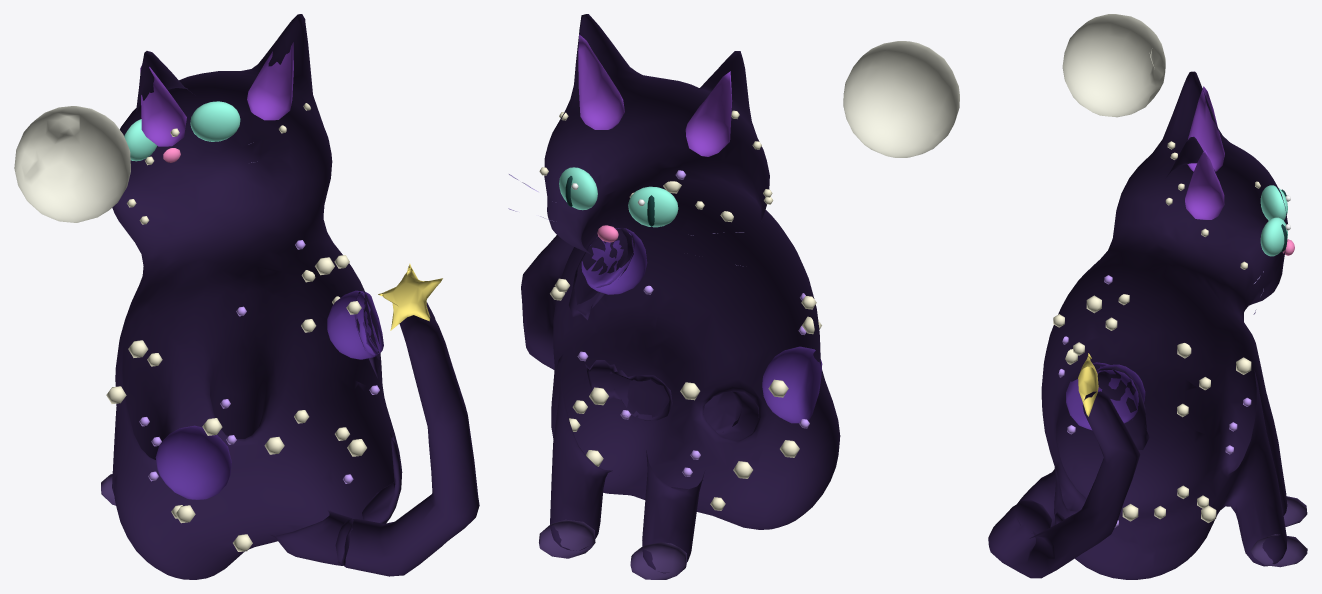
Rendered from boss_void_cat.glb.
3 views of the same model, side by side, from view 1: azimuth 30°, elevation 25°; view 2: azimuth 150°, elevation 25°; view 3: azimuth 270°, elevation 25° (orthographic). The views are drawn at different scales.
Visible parts, largest first — view 1: body, tail, extra; view 2: body, extra, tail; view 3: body, tail, extra.
Part boxes in pixels (x1,y1,x2,y2): body: [101, 14, 412, 579]; tail: [335, 267, 479, 576]; extra: [14, 106, 130, 222]; body: [508, 14, 840, 579]; extra: [843, 41, 959, 157]; tail: [521, 228, 742, 426]; body: [1016, 71, 1307, 579]; tail: [988, 357, 1149, 578]; extra: [1062, 14, 1165, 117].
Bounding box in the file's own units: 2.55 × 2.8 × 1.84.
Materials: 1 (1 with a texture image).
